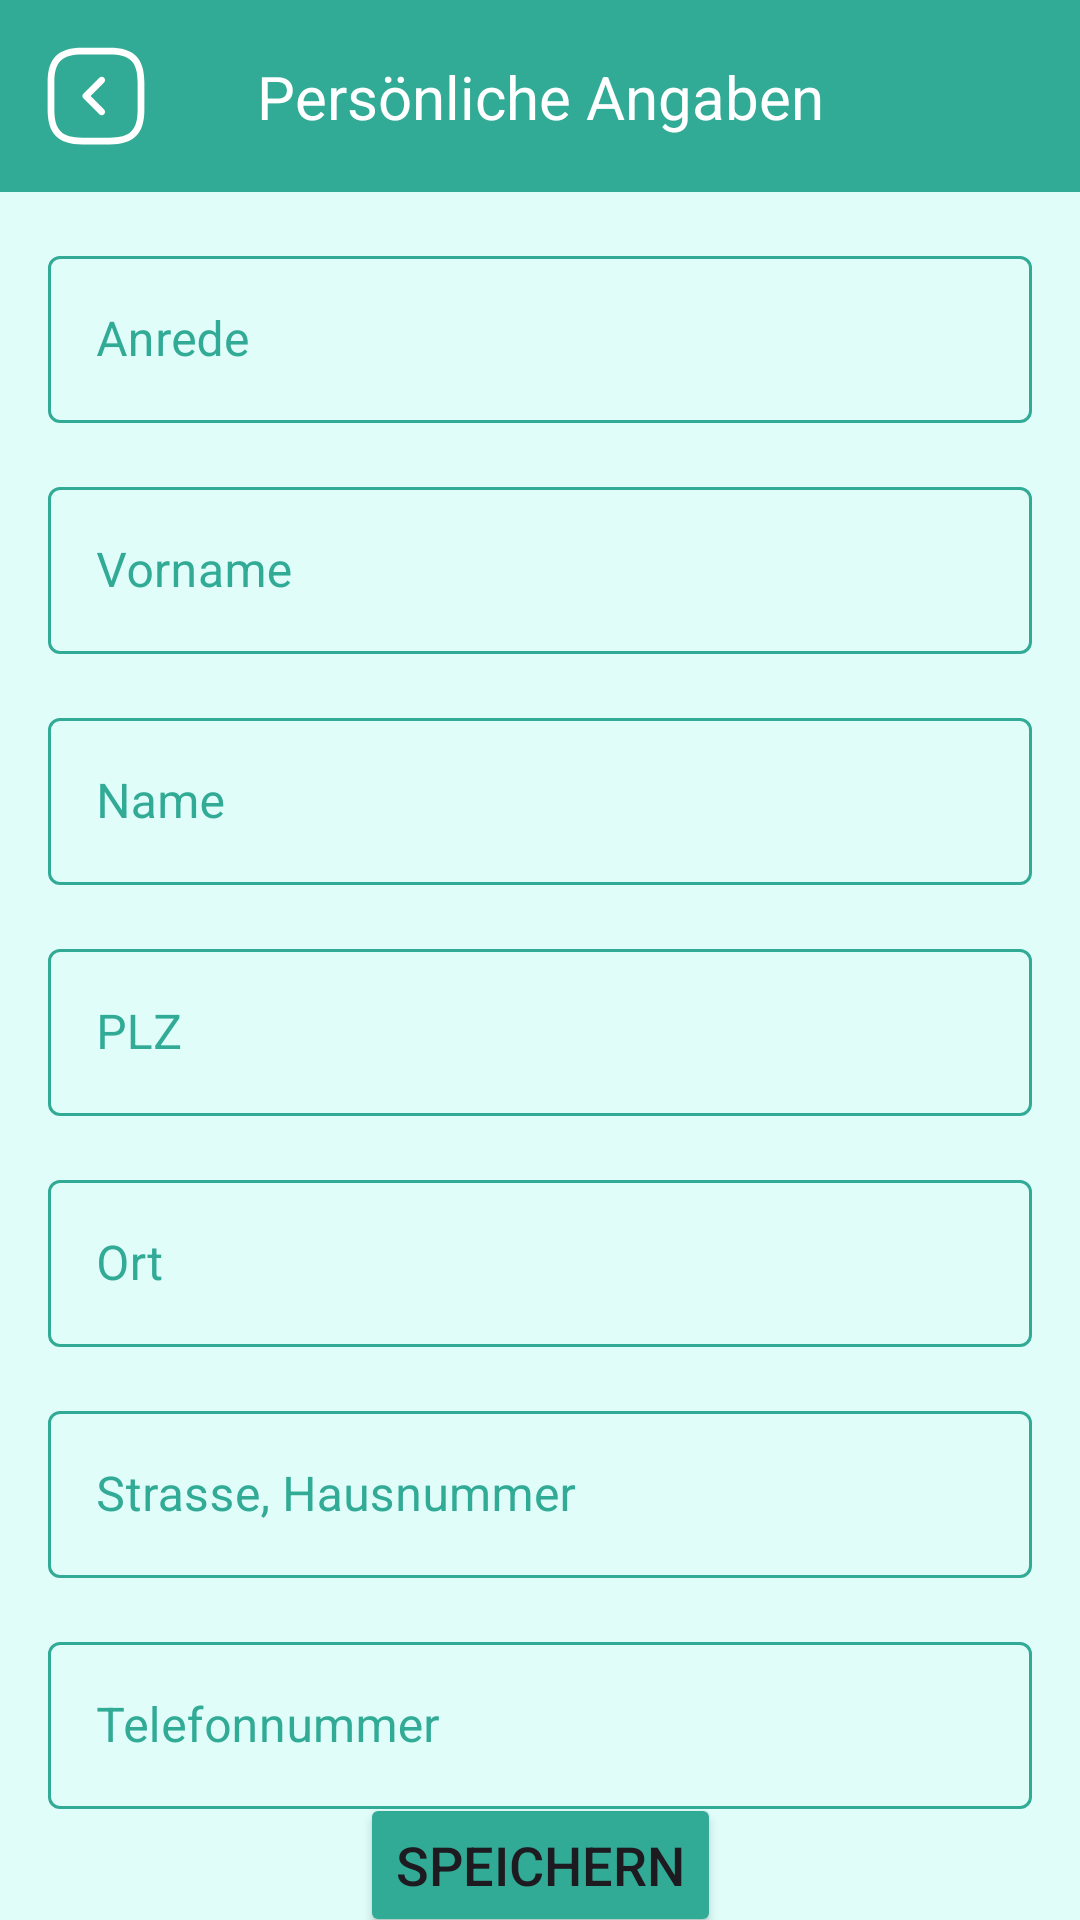

Where to tap for icons on this 1080×1920 app screen, as point (x, y):
arrow square left: point (96, 96)
